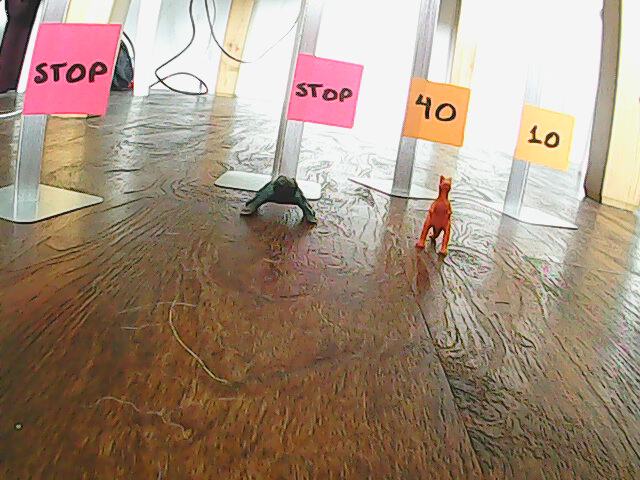10: (524, 115, 567, 157)
40: (409, 88, 464, 138)
dinosaur: (411, 171, 459, 262)
stop: (32, 33, 111, 113), (295, 65, 356, 118)
turtle: (231, 170, 321, 229)
